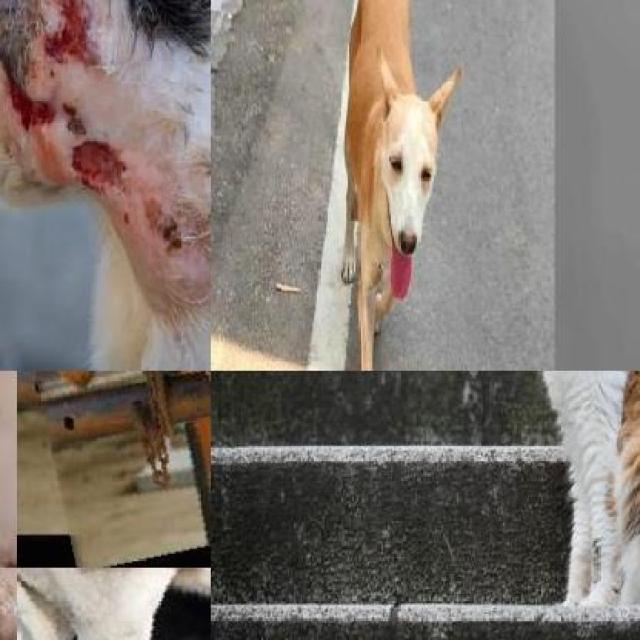cat: (0, 0, 211, 371), (487, 371, 640, 614)
cow: (17, 370, 211, 568), (17, 567, 211, 640)
dog: (335, 0, 437, 371)
injured: (0, 0, 120, 86), (48, 104, 132, 216), (0, 52, 58, 156)
